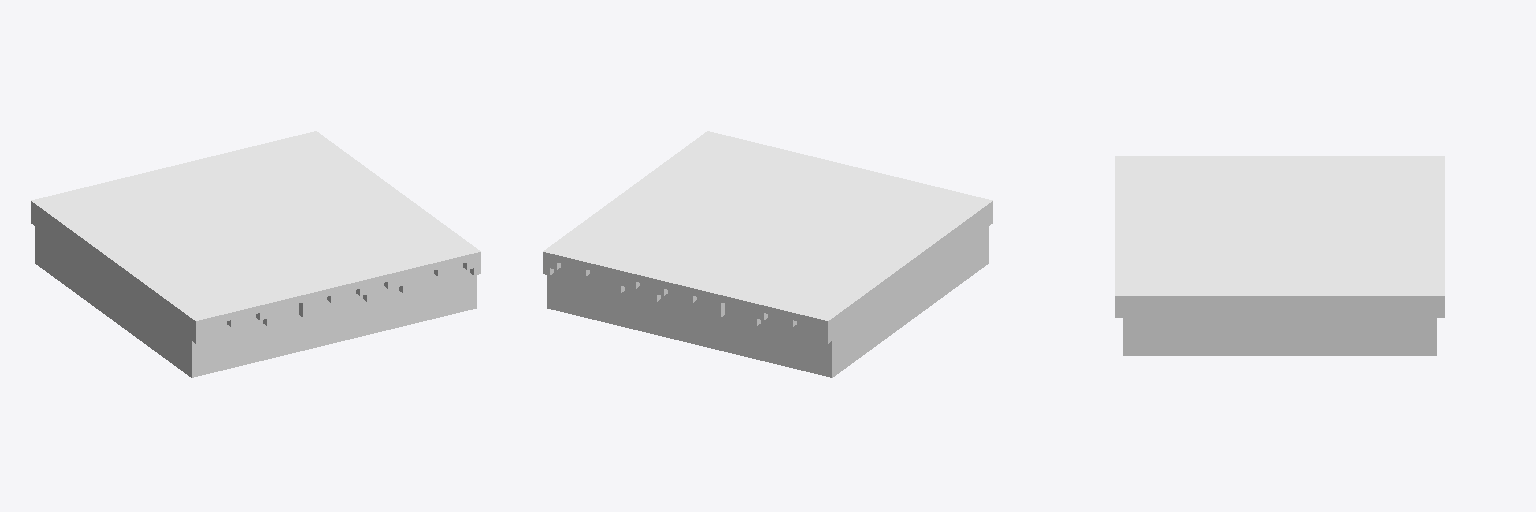
The model's file is GrassMegaPlane.obj.
The picture shows the model from 3 angles: view 1: azimuth 30°, elevation 25°; view 2: azimuth 150°, elevation 25°; view 3: azimuth 270°, elevation 25°; orthographic projection.
Visible parts, largest first — view 1: object 1; view 2: object 1; view 3: object 1.
Boxes of the visible parts, box(x1,y1,x2,y2) form: object 1: box(31, 131, 480, 377); object 1: box(543, 131, 992, 377); object 1: box(1115, 156, 1444, 355).
Size of the model in its own units: 4 by 0.8 by 4.